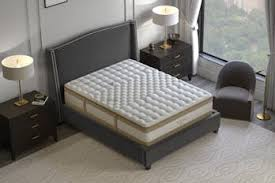bed-matress: (60, 56, 215, 147)
